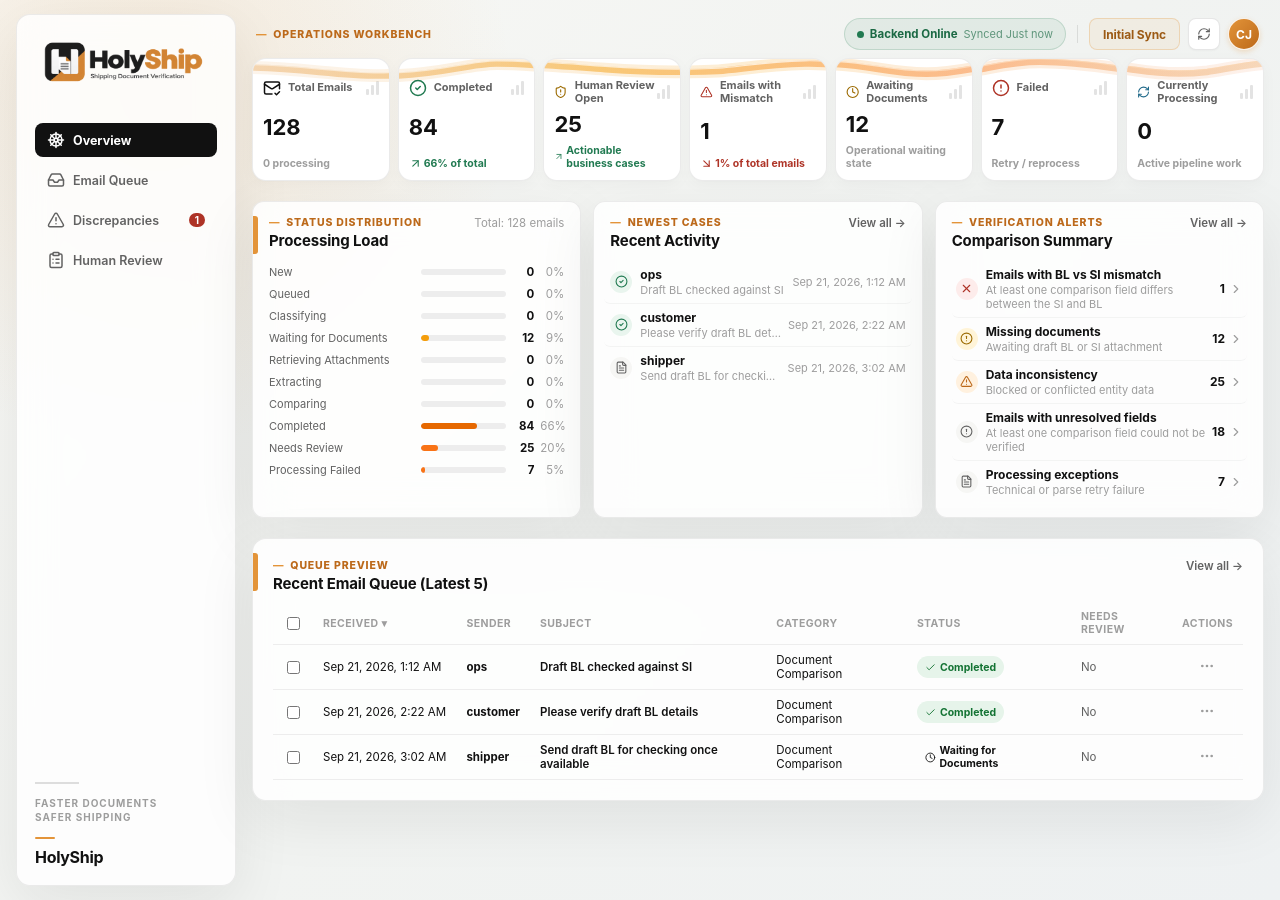
Test: Confirmed Discrepancies Workspace › shows extracted document field evidence in the discrepancy inspector
What coordinates should you click on to do the following:
click the button "Discrepancies 1"
I would click on:
 (126, 220)
Its box is [35, 203, 217, 237].
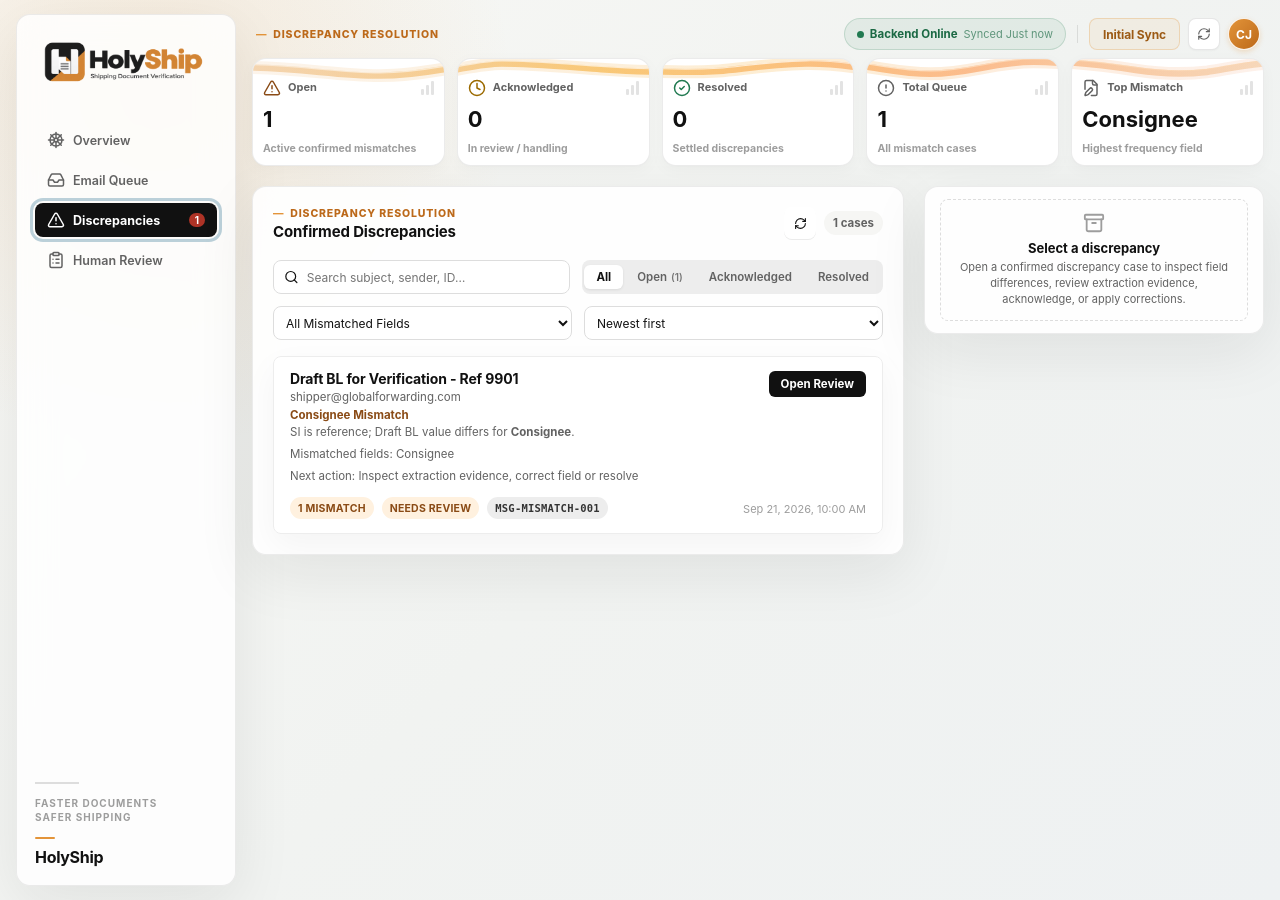
What coordinates should you click on to do the following:
click the button "Open Review"
I would click on:
 (817, 384)
Its box is [769, 371, 866, 397].
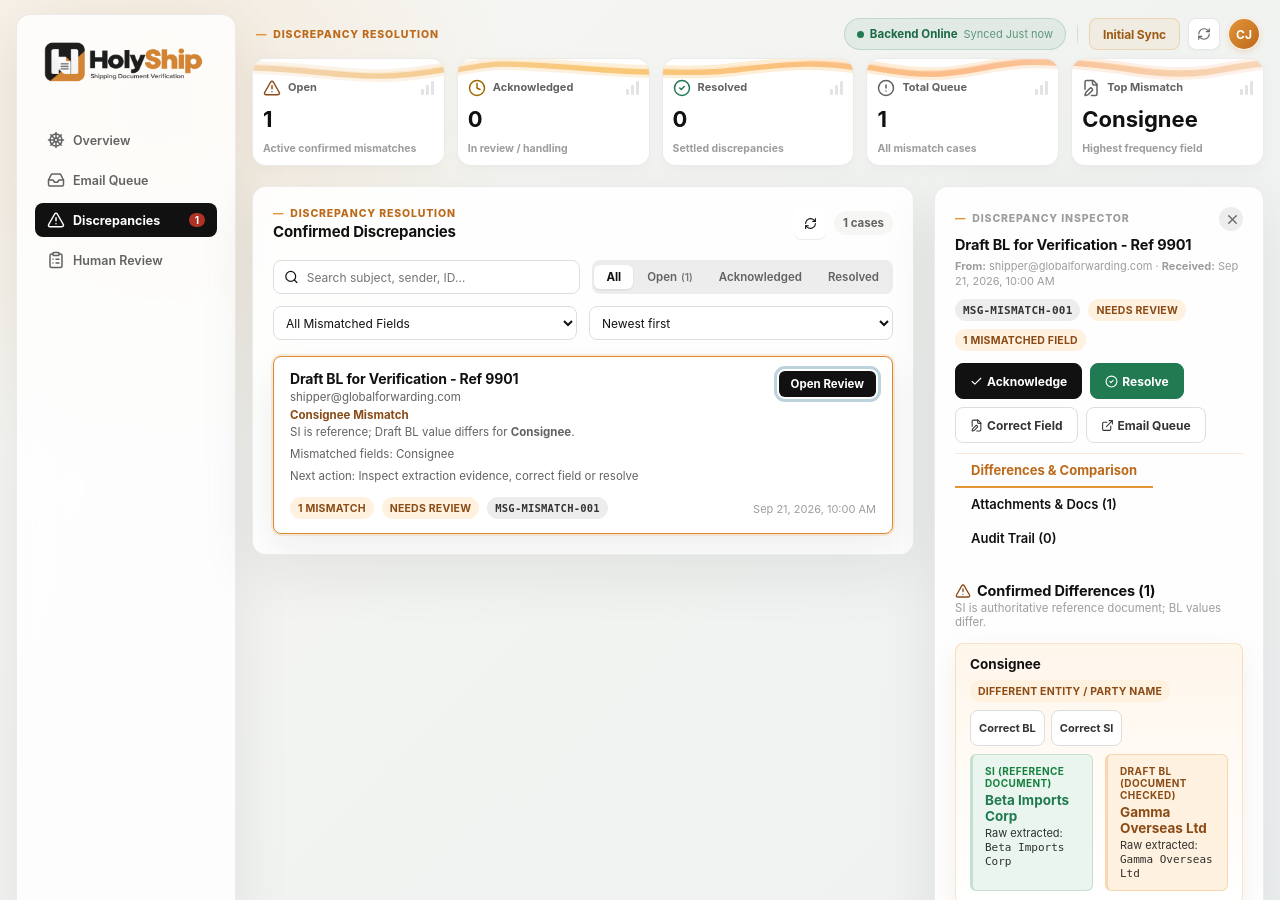
What coordinates should you click on to do the following:
click the button "Attachments & Docs (1)"
I would click on:
 (1044, 505)
Its box is [955, 488, 1133, 522].
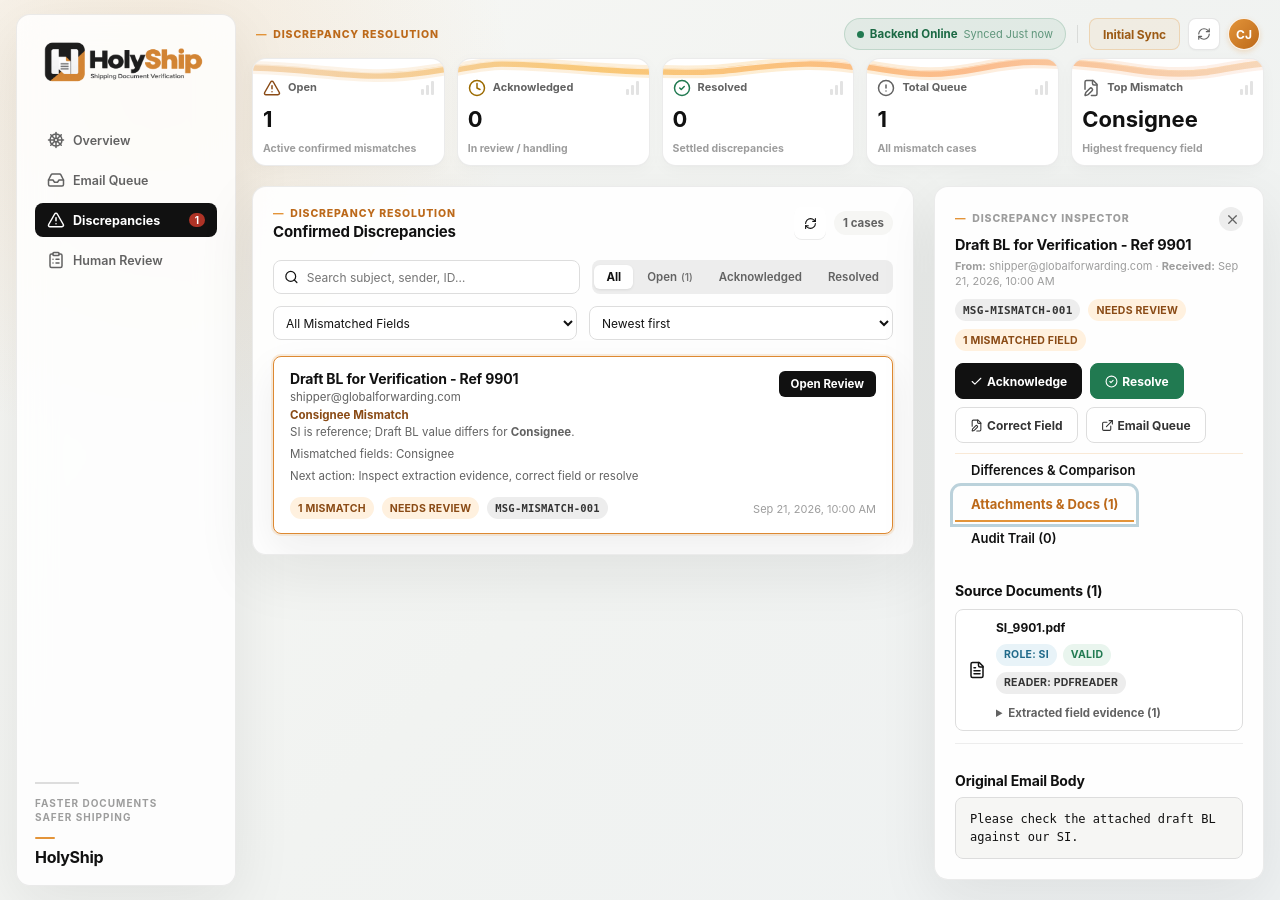
What coordinates should you click on to do the following:
click the heading "Extracted field evidence (1)"
I would click on:
 (1084, 713)
Its box is [1008, 706, 1161, 720].
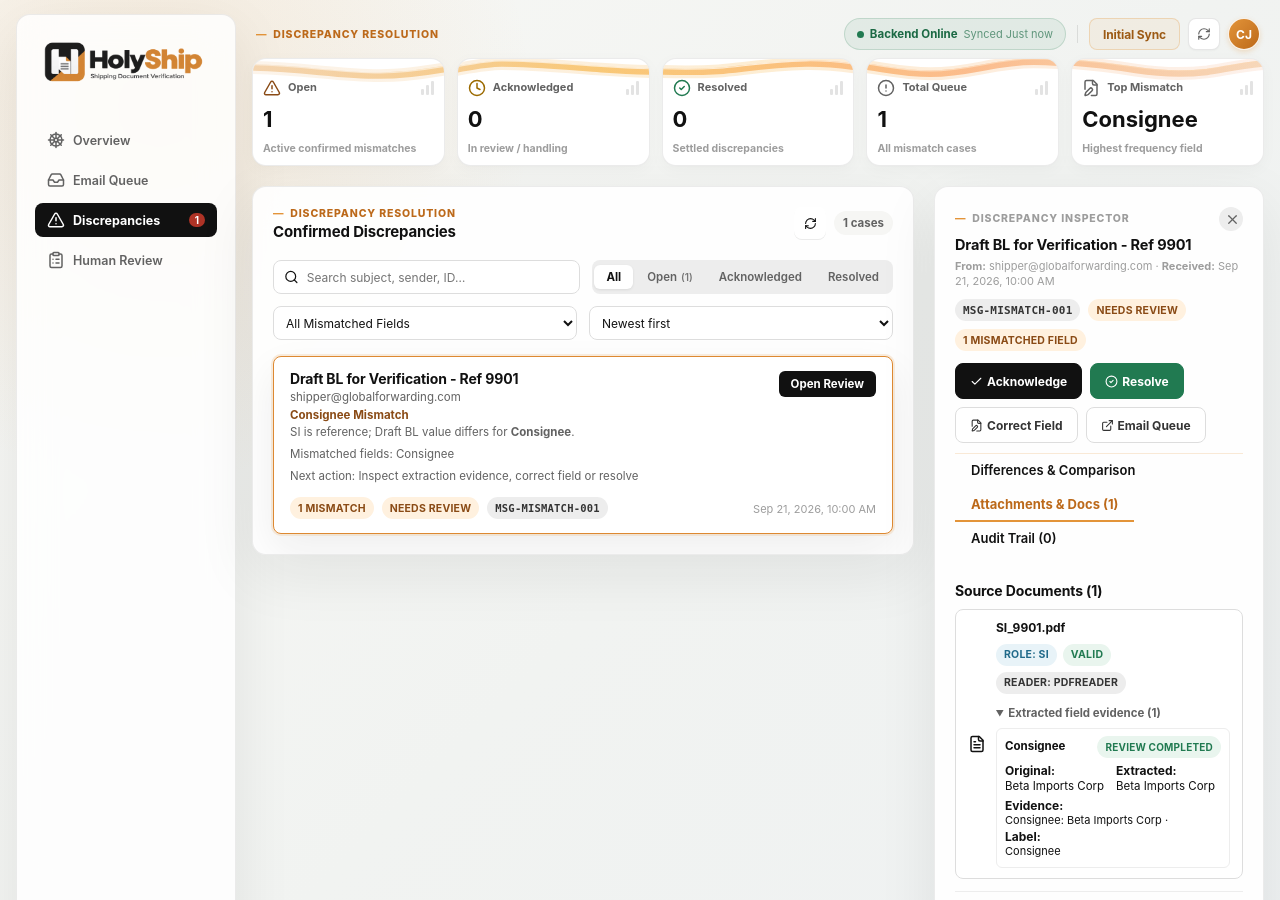
Expected: the text "Original:" is shown, [1005, 763, 1055, 778]
Expected: the text "Extracted:" is shown, [1116, 763, 1177, 778]
Expected: the text "Evidence: Consignee: Beta Imports Corp · Label: Consignee" is shown, [1005, 798, 1168, 858]
